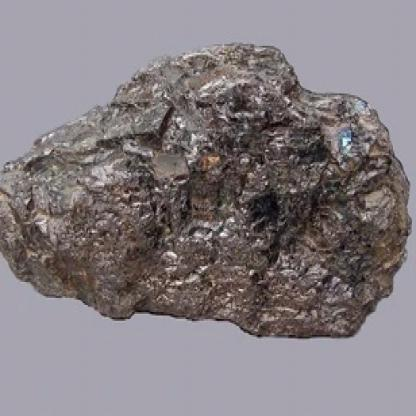Sedimentary_coal: (1, 43, 416, 346)
